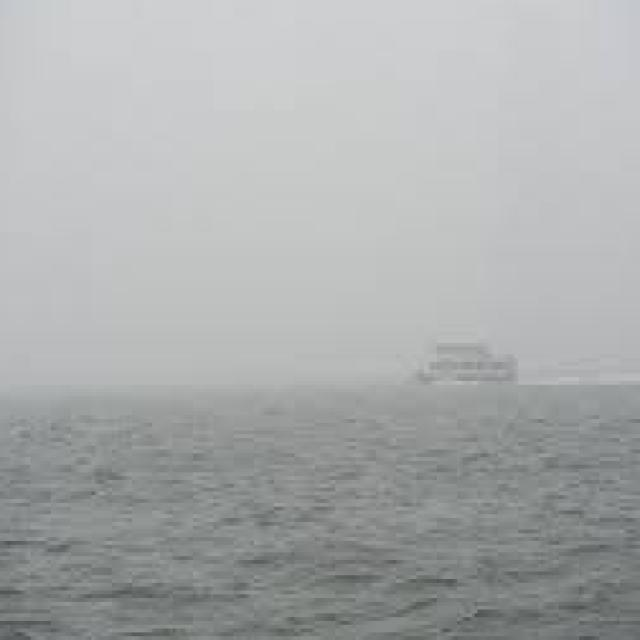passenger ship: (416, 330, 530, 407)
